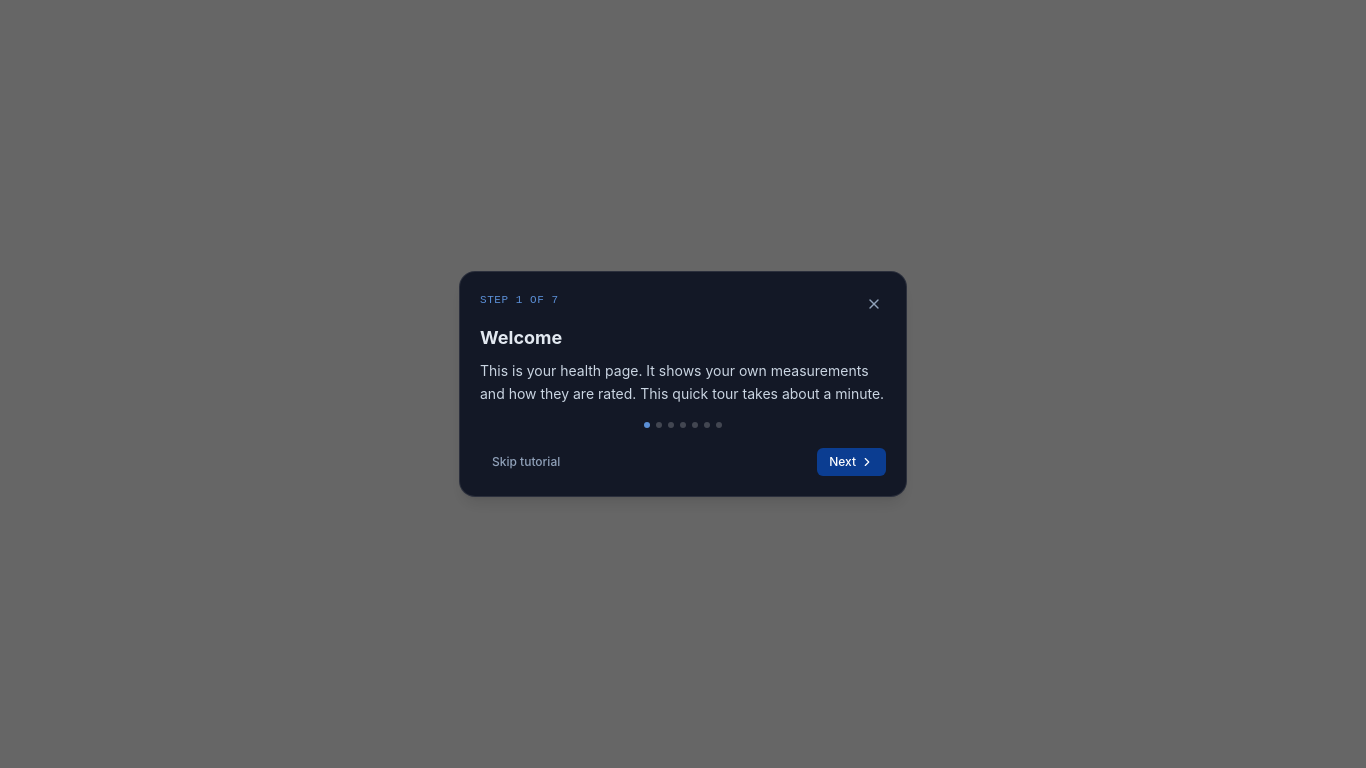
CrewTutorial › goes through the steps with Next and Back
Expected: the heading "Welcome" is shown, [480,327,562,348]
Expected: the button "Back" is not shown
Click the button "Next": x=852, y=462 [817,448,886,476]
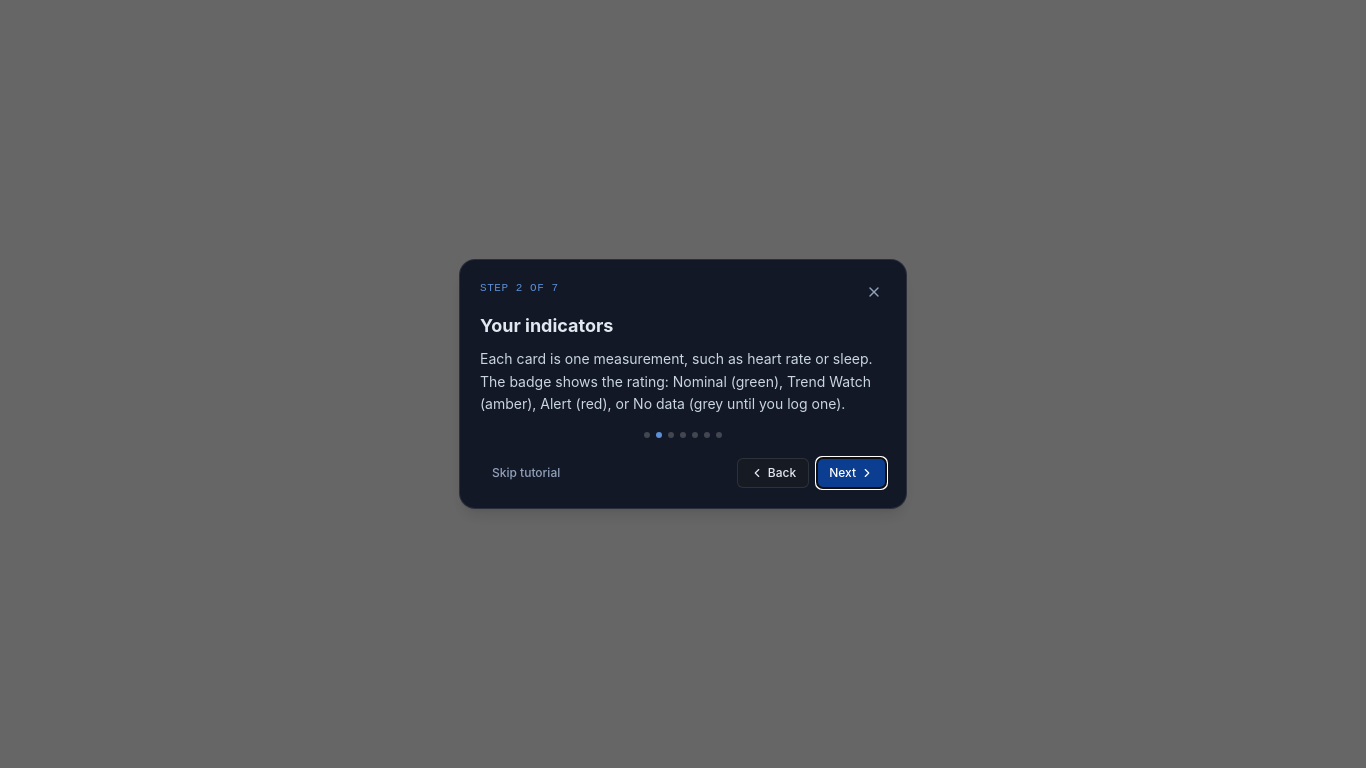
Result: the heading "Your indicators" is shown at [480,315,613,336]
Click the button "Back": x=773, y=473 [737,458,809,488]
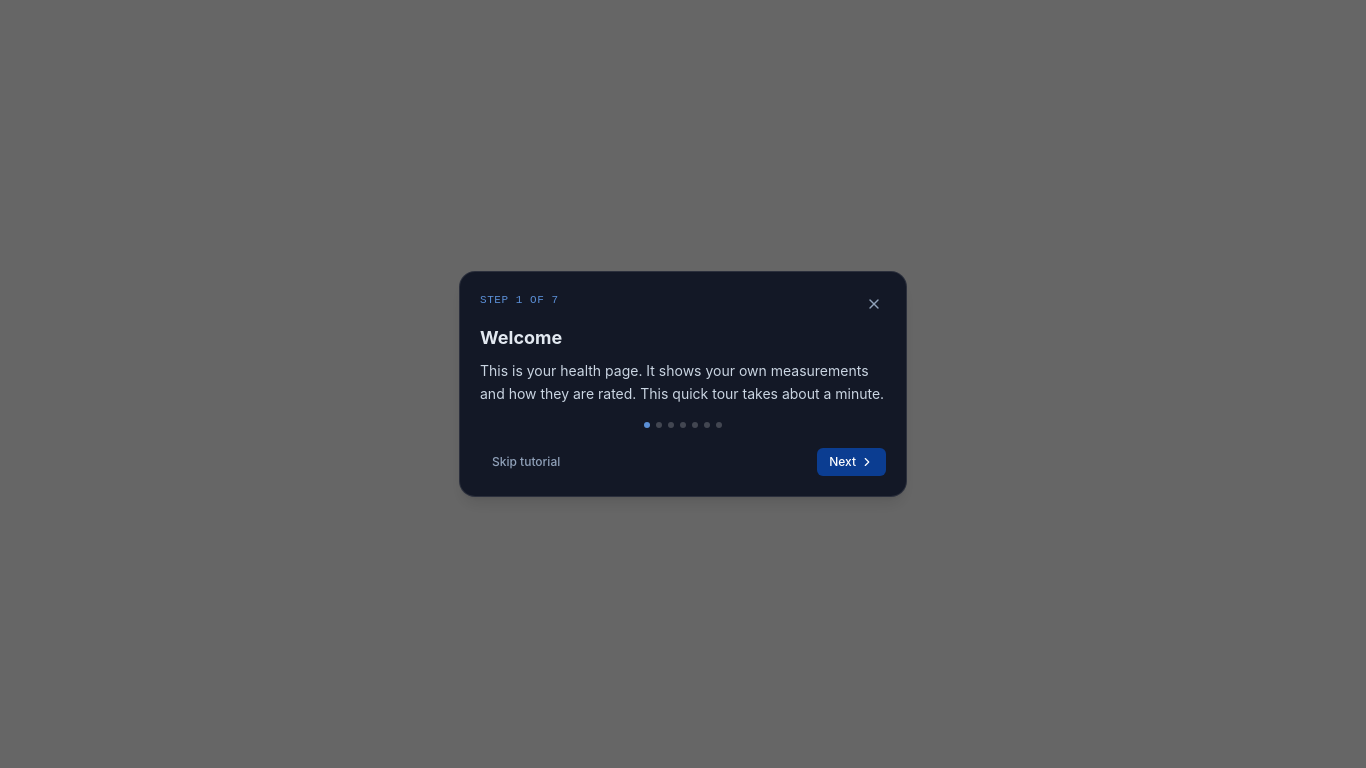
Result: the heading "Welcome" is shown at [480,327,562,348]
